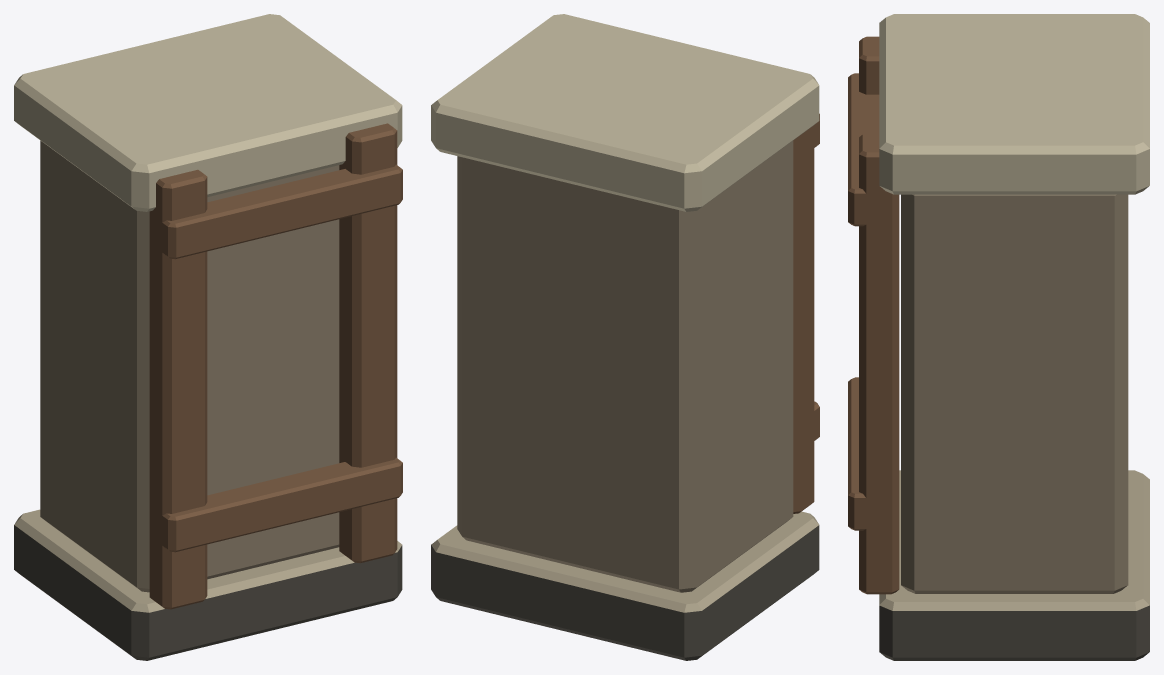
The model's file is wall-end.glb.
3 renders of one model, left to right at view 1: azimuth 30°, elevation 25°; view 2: azimuth 150°, elevation 25°; view 3: azimuth 270°, elevation 25°, orthographic. The views are drawn at different scales.
Visible parts, largest first — view 1: wall-end__body; view 2: wall-end__body; view 3: wall-end__body.
Part boxes in pixels (x1,y1,x2,y2): wall-end__body: (14,14,402,660); wall-end__body: (431,14,819,660); wall-end__body: (848,14,1149,660).
Bounding box in the file's own units: 0.6 × 1.05 × 0.5575.
